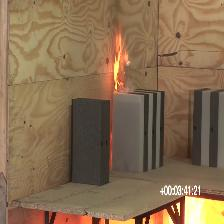fire: (114, 24, 132, 91)
